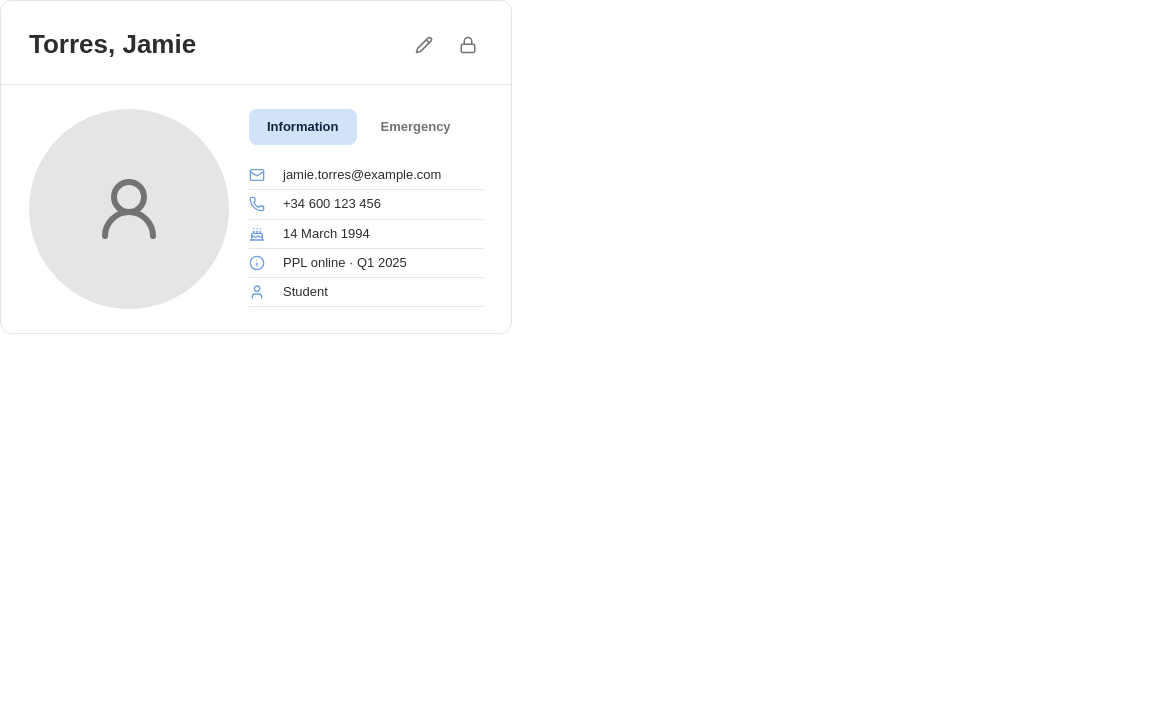
ProfileCardContainer › closes the modal without saving when cancel is clicked
The width and height of the screenshot is (1152, 720).
Click the button named "Edit profile". click: [424, 44]
box: [409,30,439,60]
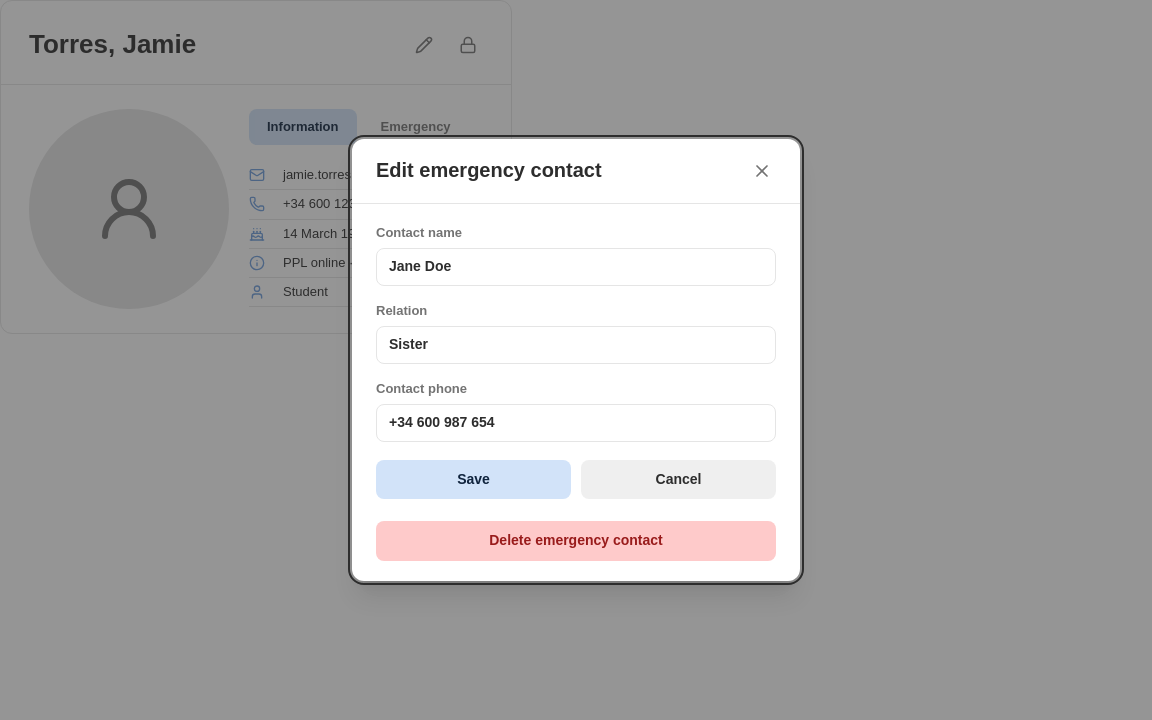
Click the button "Cancel". click: [678, 479]
box: [581,460,776,499]
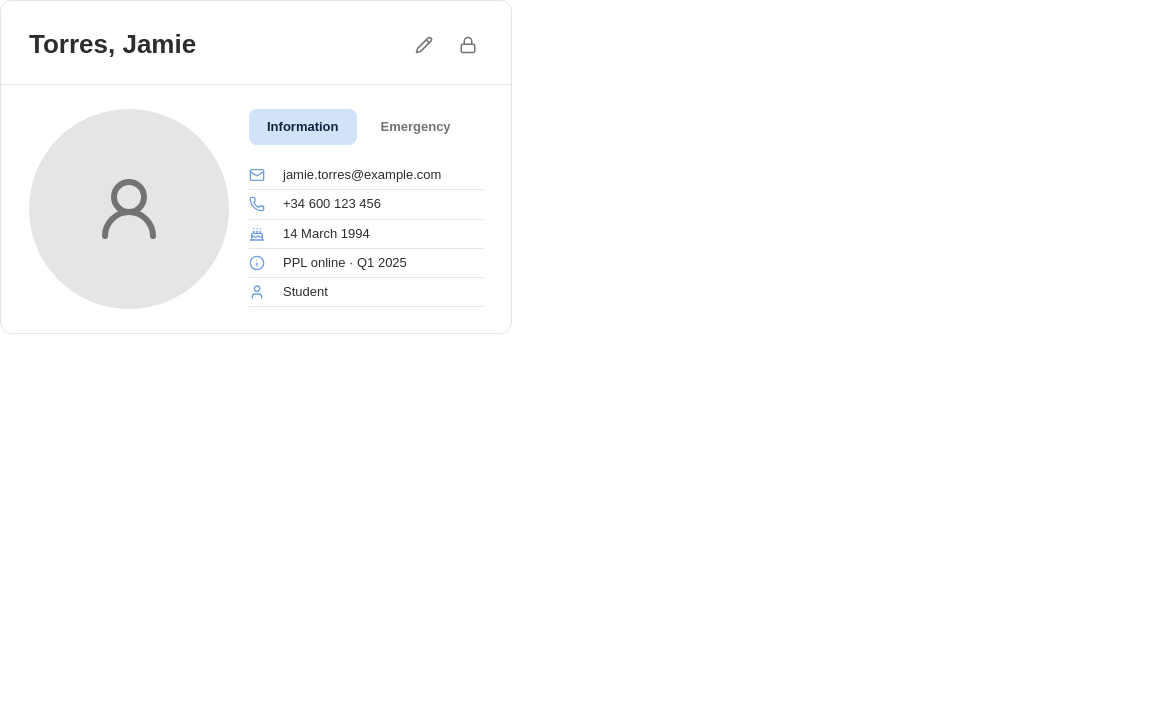
Expected: the dialog is gone
